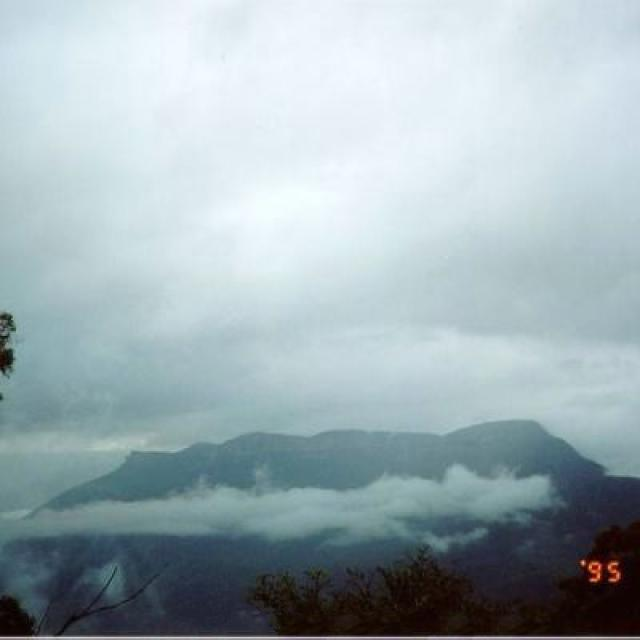Sc: (1, 28, 640, 414)
